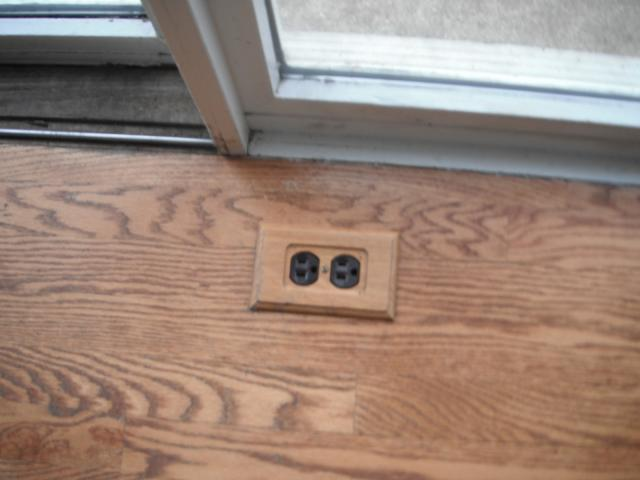outlet: (333, 255, 361, 283), (292, 253, 321, 280)
